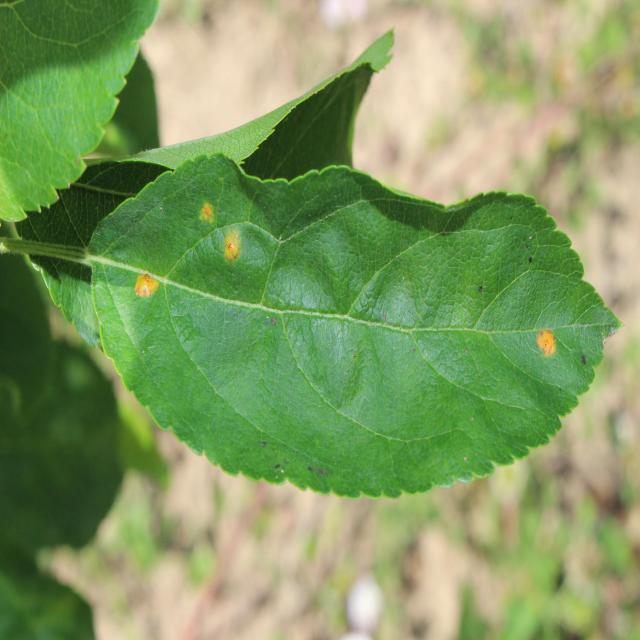Rust: (526, 319, 566, 367), (122, 264, 165, 306), (221, 224, 245, 277), (193, 200, 217, 239)
